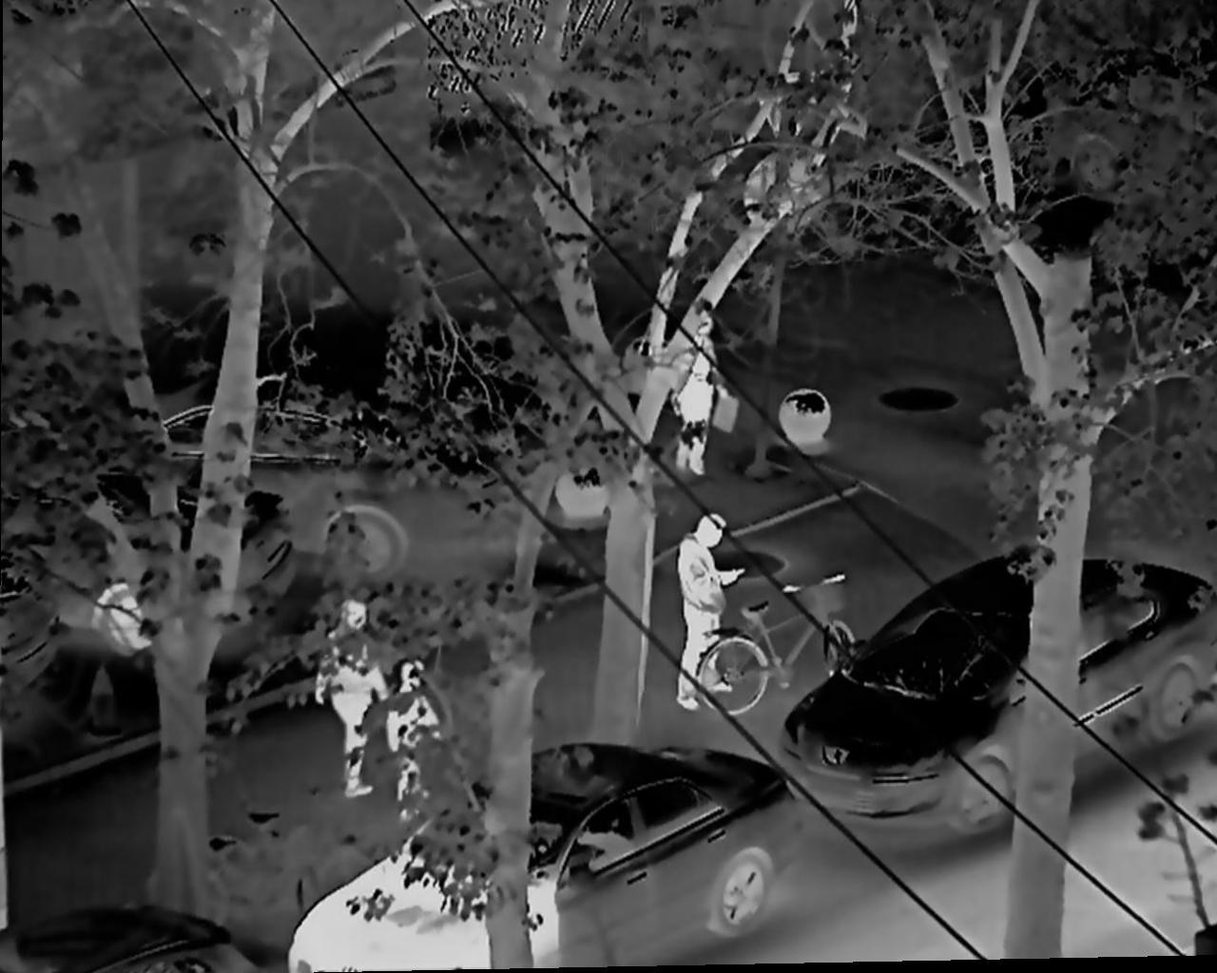person: (674, 511, 742, 719), (672, 305, 730, 477), (311, 652, 380, 795)
